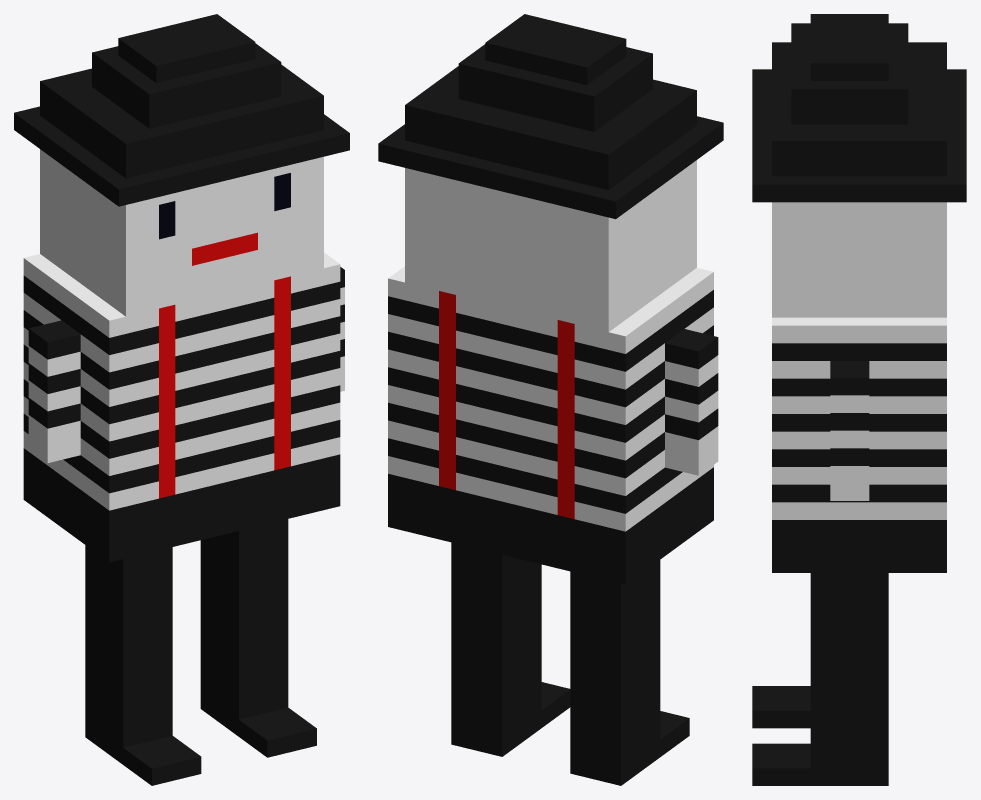
Rendered from Player25.obj.
3 renders of one model, left to right at view 1: azimuth 30°, elevation 25°; view 2: azimuth 150°, elevation 25°; view 3: azimuth 270°, elevation 25°, orthographic. The views are drawn at different scales.
Parts seen in each view (by area): view 1: Player25; view 2: Player25; view 3: Player25.
Boxes of the visible parts, x1=… form: Player25: x1=14, y1=14, x2=349, y2=785; Player25: x1=378, y1=14, x2=723, y2=785; Player25: x1=752, y1=14, x2=966, y2=785.
Bounding box in the file's own units: 18 × 40 × 11.
